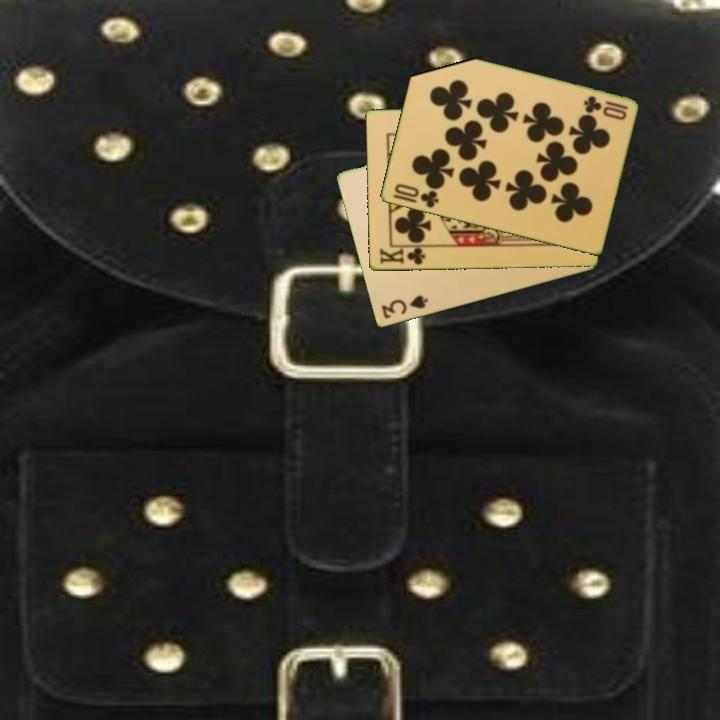10c: (391, 180, 441, 211), (579, 92, 631, 115)
3s: (377, 292, 430, 322)
Kc: (376, 244, 431, 268)
